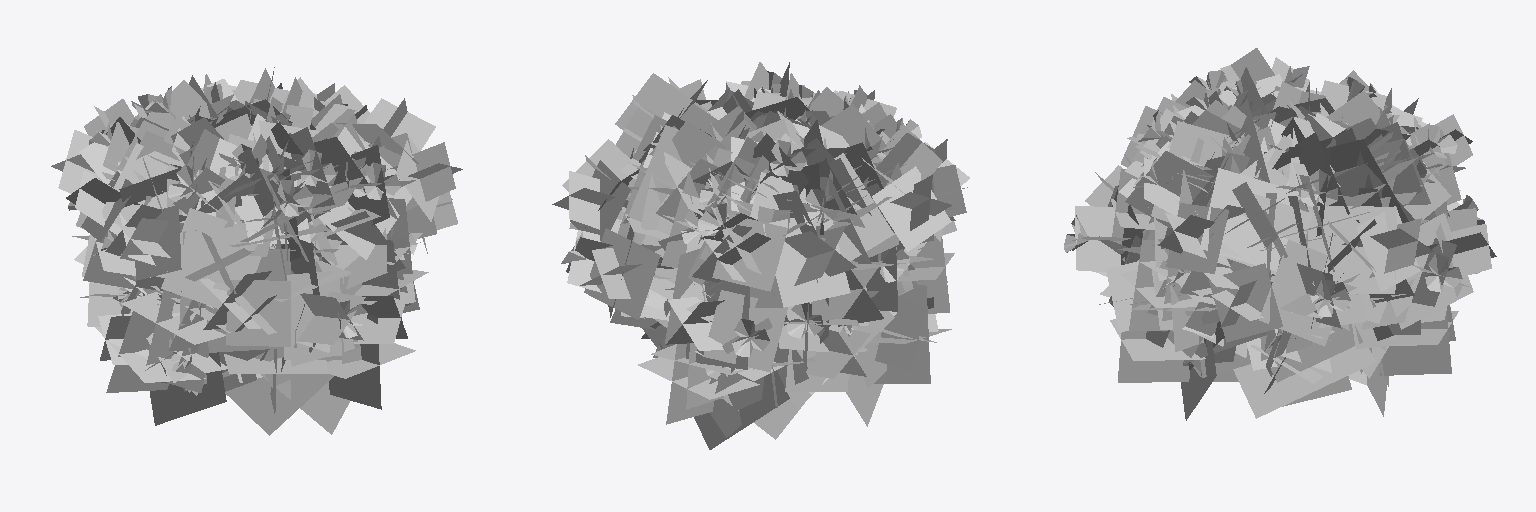
File: Bush_Common_Flowers.obj
3 views of the same model, side by side, from view 1: azimuth 30°, elevation 25°; view 2: azimuth 150°, elevation 25°; view 3: azimuth 270°, elevation 25° (orthographic).
Parts seen in each view (by area): view 1: Bush_Common_Flowers; view 2: Bush_Common_Flowers; view 3: Bush_Common_Flowers.
Boxes of the visible parts, box(x1,y1,x2,y2) form: Bush_Common_Flowers: box(51, 67, 462, 435); Bush_Common_Flowers: box(552, 62, 969, 449); Bush_Common_Flowers: box(1064, 48, 1496, 420).
Size of the model in its own units: 1.91 by 1.58 by 1.97.